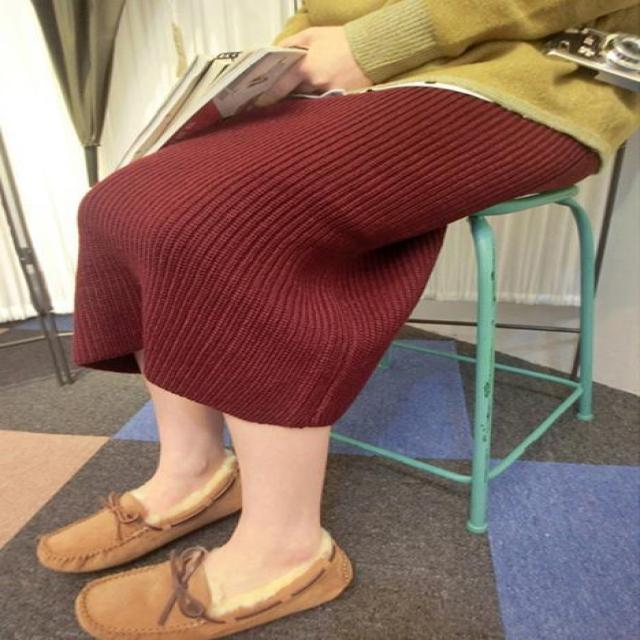long sleeve top: (254, 0, 640, 174)
skirt: (74, 19, 635, 430)
